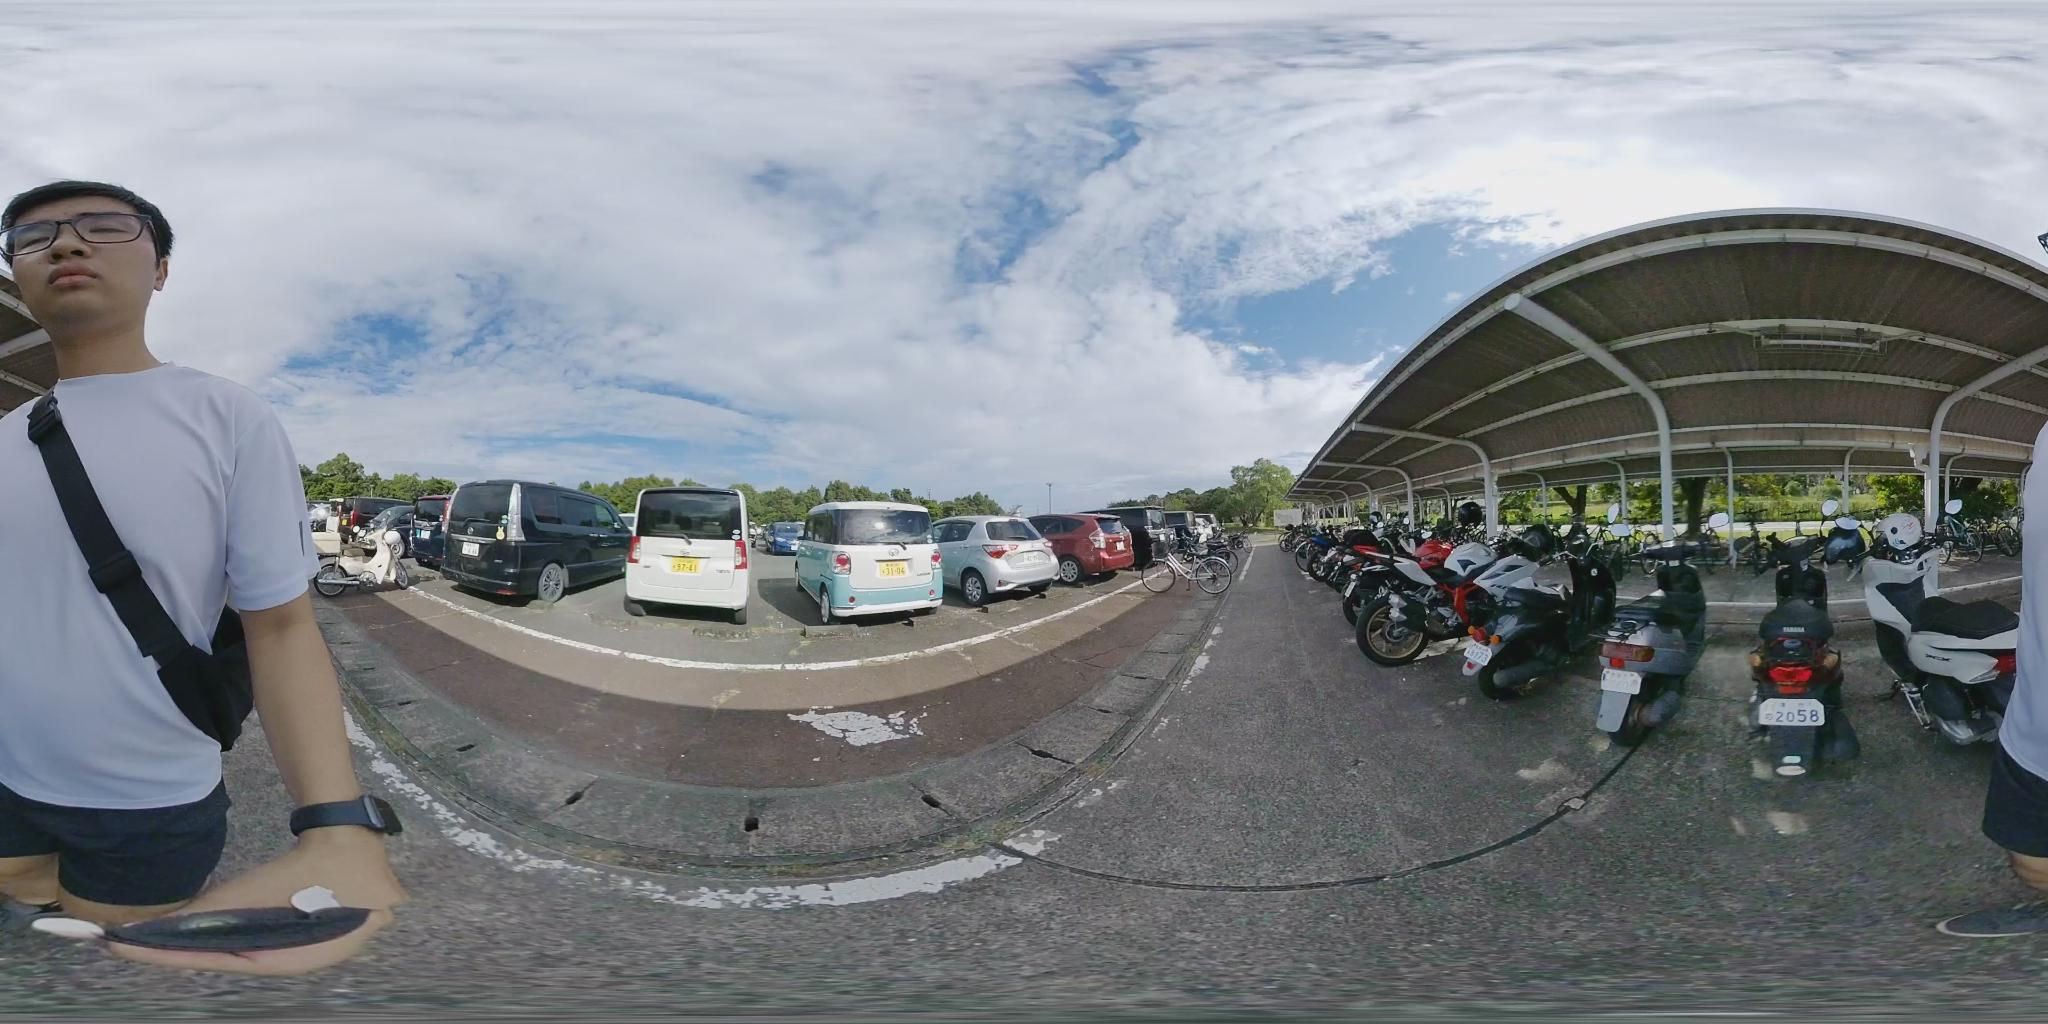car: (445, 481, 637, 598), (624, 483, 754, 620), (795, 500, 939, 614), (929, 515, 1055, 597)
